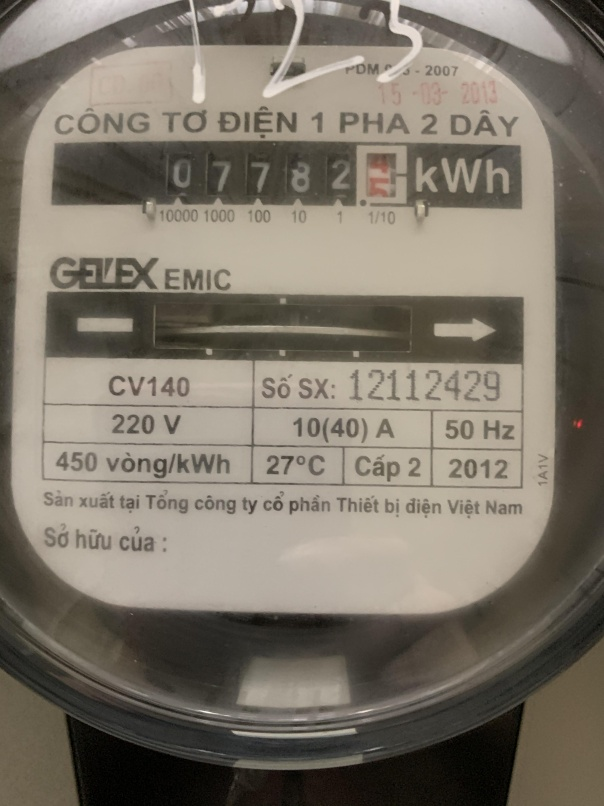counter: (54, 141, 525, 206)
electricity_meter: (1, 4, 602, 759)
